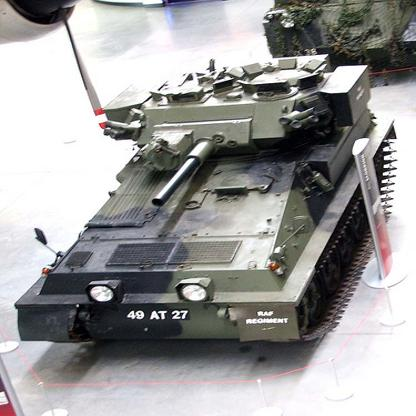Tank: (10, 38, 401, 367)
